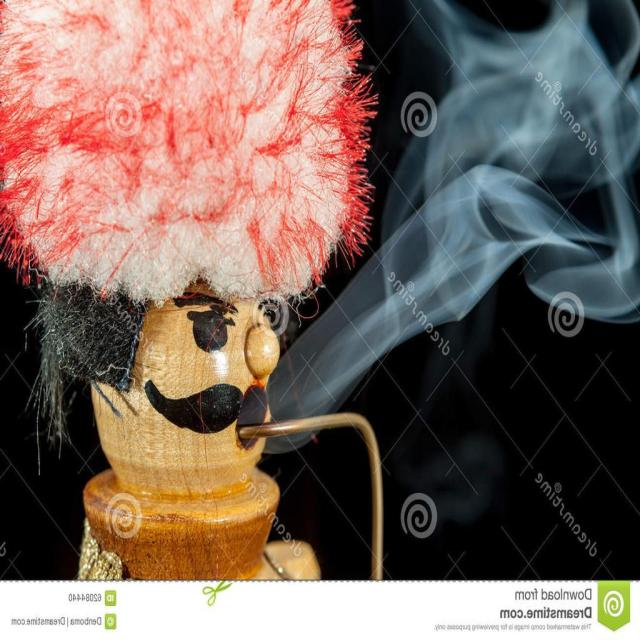smoking: (186, 54, 627, 537)
